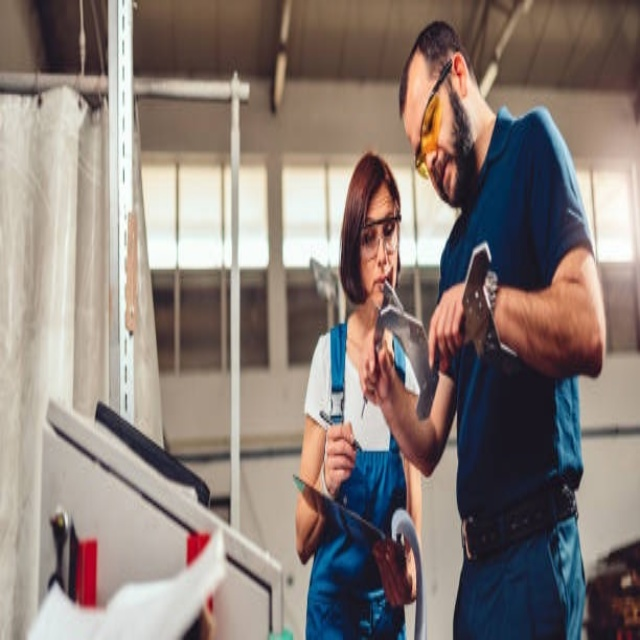Gafas: (415, 59, 454, 177), (358, 213, 401, 259)
Sin_guantes: (428, 281, 471, 379), (360, 315, 398, 408), (374, 530, 413, 607), (323, 421, 358, 499)
Sin_mascara: (434, 146, 457, 203), (368, 265, 392, 305)
